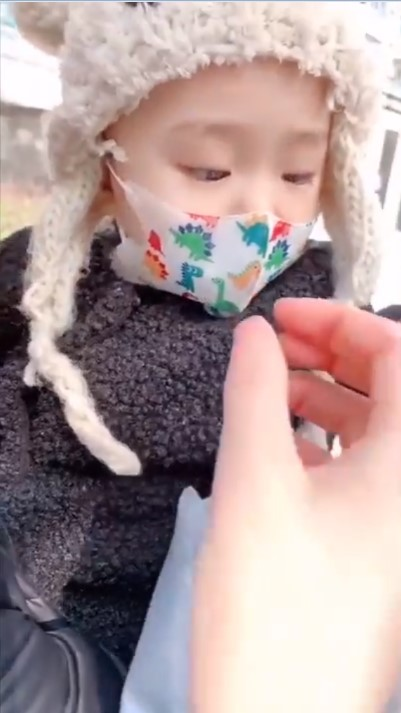face_with_mask: (58, 5, 349, 323)
